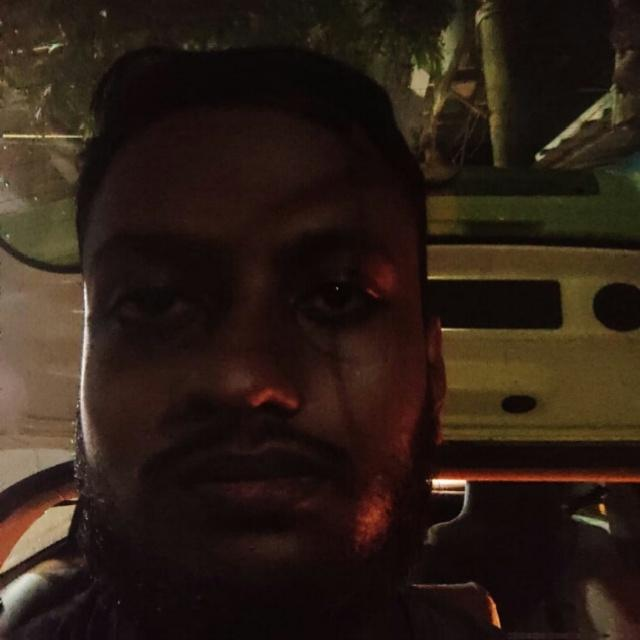Natural: (59, 86, 445, 583)
